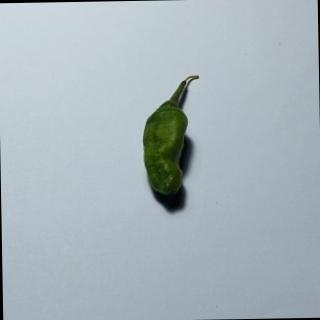Cabai Hijau: (137, 72, 207, 210)
